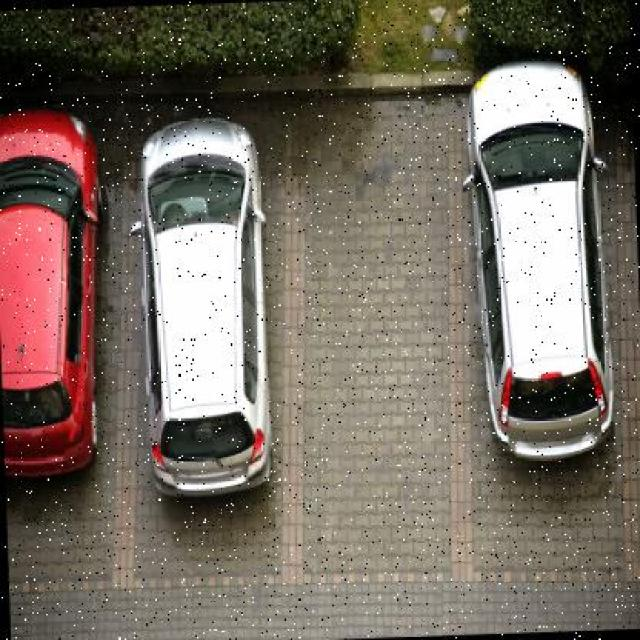Car: (464, 50, 623, 487), (138, 120, 282, 544), (1, 104, 109, 492)
Empty: (301, 98, 463, 572)
